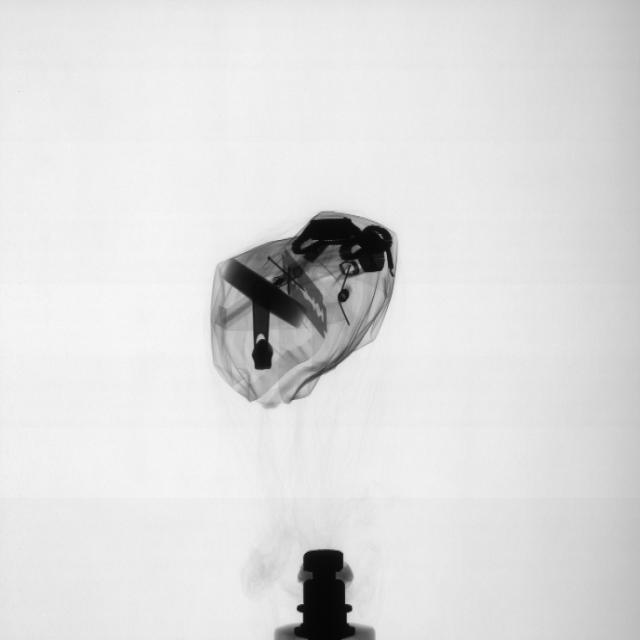BLADE: (289, 269, 333, 341)
